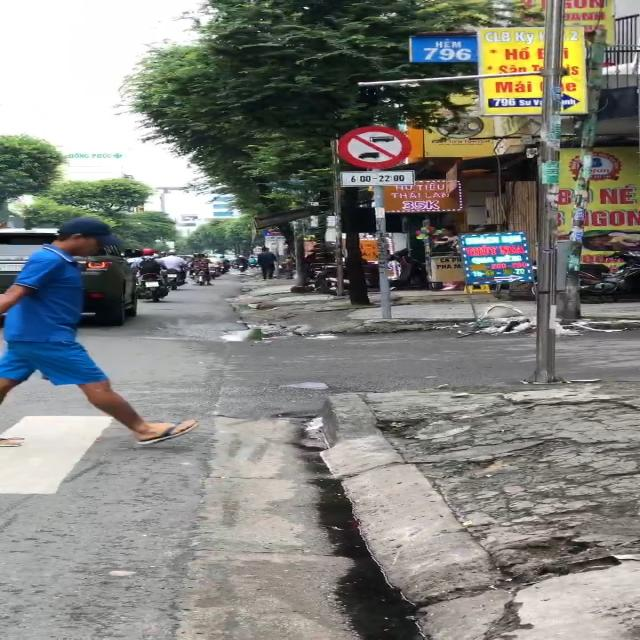Bien bao cam xe oto khach va xe oto tai: (334, 123, 418, 171)
